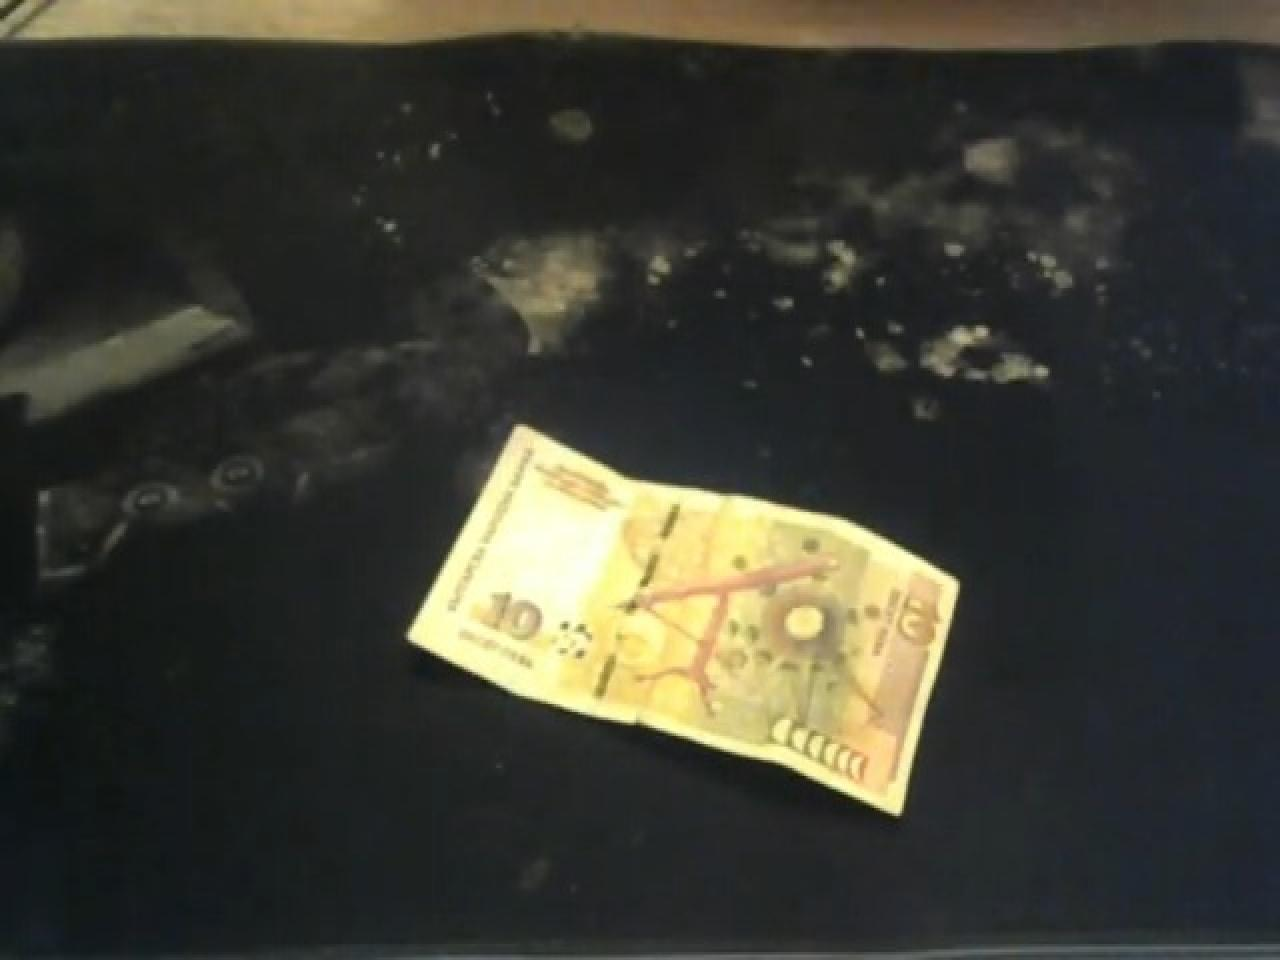10leva: (408, 427, 959, 821)
